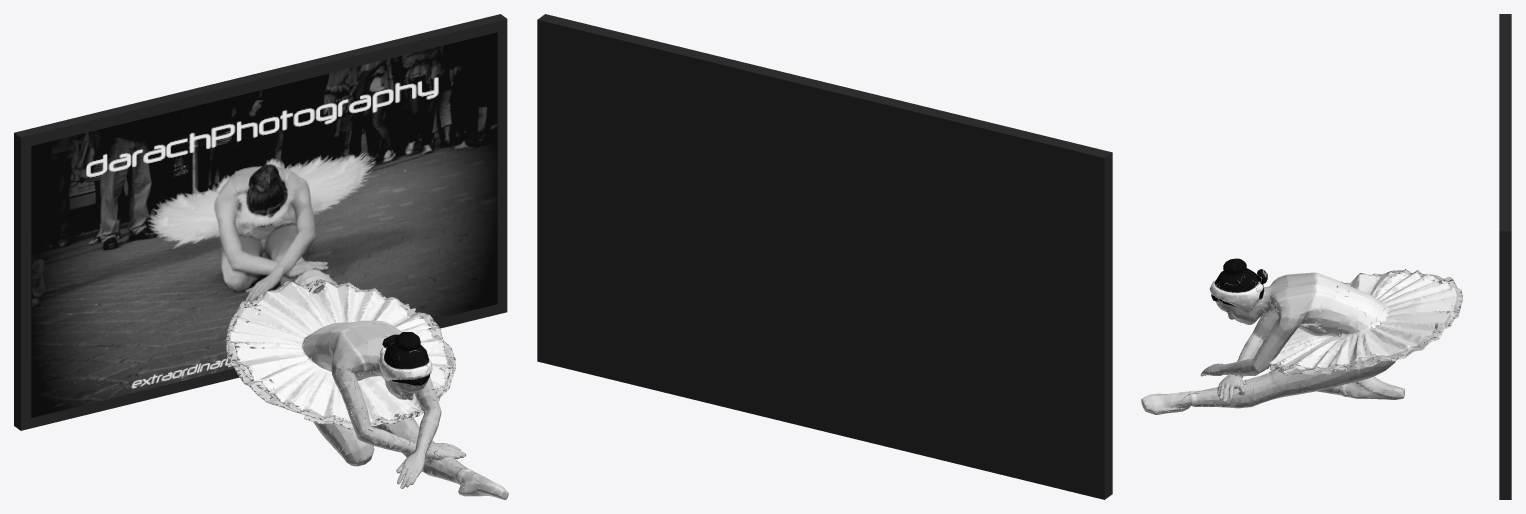
The model's file is dancer.glb.
The picture shows the model from 3 angles, left to right: view 1: azimuth 30°, elevation 25°; view 2: azimuth 150°, elevation 25°; view 3: azimuth 270°, elevation 25°; orthographic projection. The views are drawn at different scales.
Visible parts, largest first — view 1: LogoPrint, Dancer, PrintFrame; view 2: PrintFrame; view 3: Dancer, PrintFrame.
Boxes of the visible parts, x1,y1,x2,y2 form: LogoPrint: (31,32,497,417); Dancer: (226,279,508,499); PrintFrame: (14,14,507,430); PrintFrame: (537,14,1112,499); Dancer: (1141,258,1462,414); PrintFrame: (1499,14,1511,499).
Bounding box in the file's own units: 1.67 × 0.9819 × 1.2.
3 materials, 2 textured.
